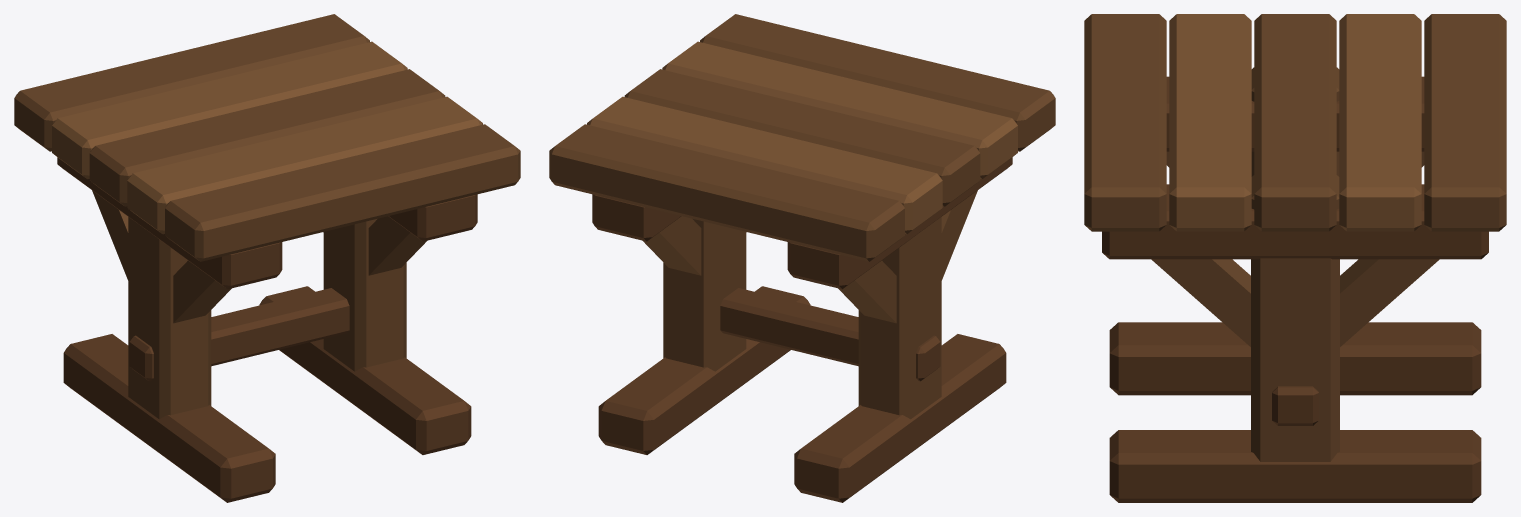
The model's file is wooden_table.glb.
3 renders of one model, left to right at view 1: azimuth 30°, elevation 25°; view 2: azimuth 150°, elevation 25°; view 3: azimuth 270°, elevation 25°, orthographic. The views are drawn at different scales.
Visible parts, largest first — view 1: wooden_table; view 2: wooden_table; view 3: wooden_table.
Part boxes in pixels (x1,y1,x2,y2): wooden_table: (14,14,520,502); wooden_table: (549,14,1055,502); wooden_table: (1084,14,1506,502).
Bounding box in the file's own units: 2 × 1.75 × 1.99.
